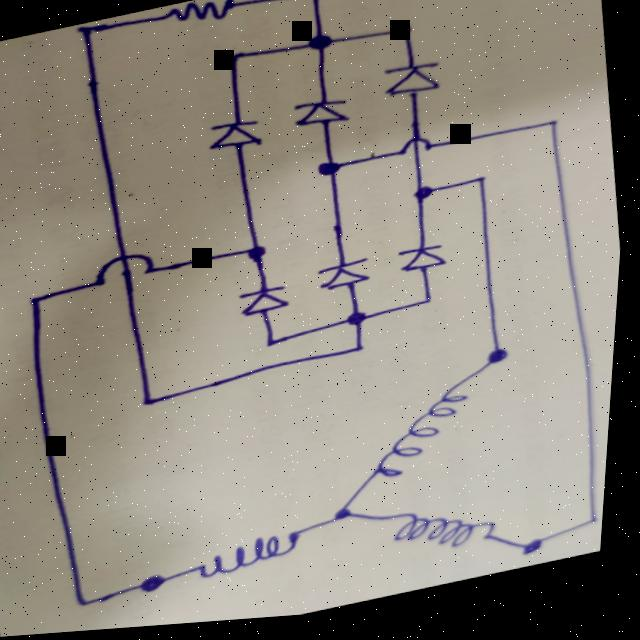crossover: (93, 249, 166, 290), (397, 141, 438, 166)
diode: (385, 65, 445, 107), (295, 99, 356, 138), (209, 120, 267, 159), (242, 287, 297, 324), (321, 263, 376, 299), (401, 249, 452, 282)
inductor: (369, 391, 486, 490), (399, 509, 507, 569), (201, 535, 310, 585)
junction: (304, 33, 343, 61), (314, 162, 353, 187), (144, 574, 178, 601), (22, 291, 60, 314), (243, 245, 277, 270), (137, 393, 172, 417), (487, 351, 520, 376), (346, 314, 381, 337), (411, 188, 444, 212), (218, 51, 252, 73), (524, 545, 555, 569), (260, 337, 293, 359), (71, 23, 103, 44), (334, 510, 367, 530), (391, 27, 422, 47), (349, 346, 378, 366), (470, 178, 497, 198), (419, 300, 446, 317), (541, 123, 568, 140), (79, 598, 105, 614), (589, 524, 611, 539), (301, 0, 327, 10)
resistor: (162, 0, 243, 35)
